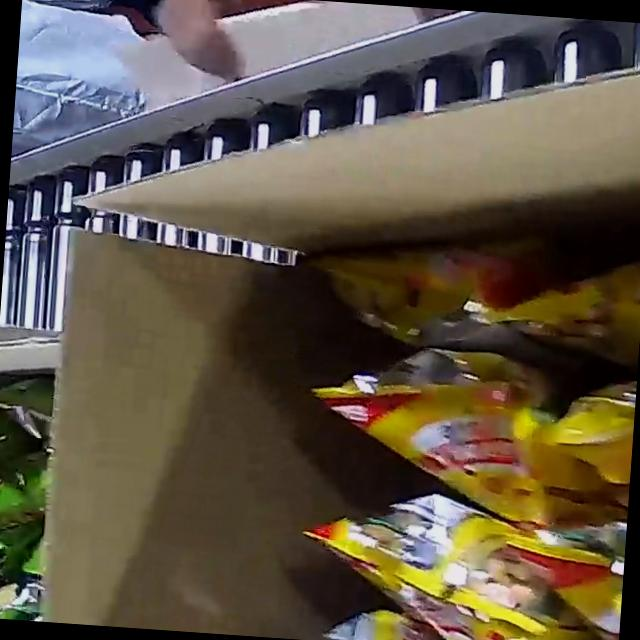salted: (239, 168, 640, 640)
yogurt: (0, 374, 67, 621)
